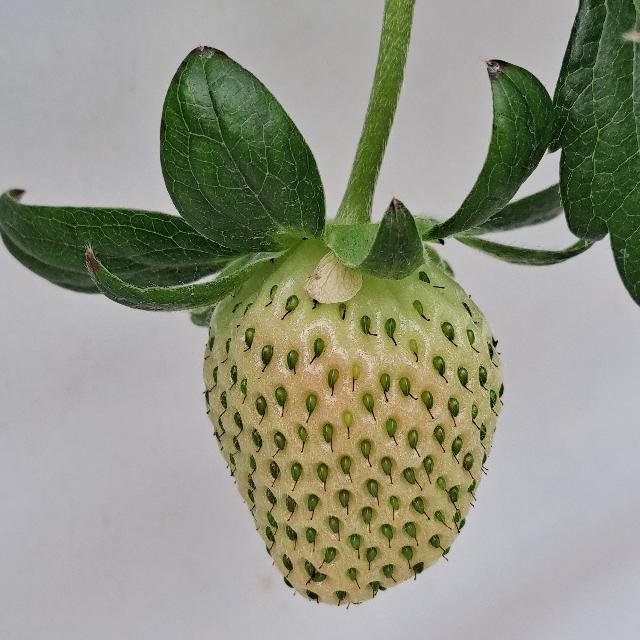Health_25: (202, 238, 503, 606)
